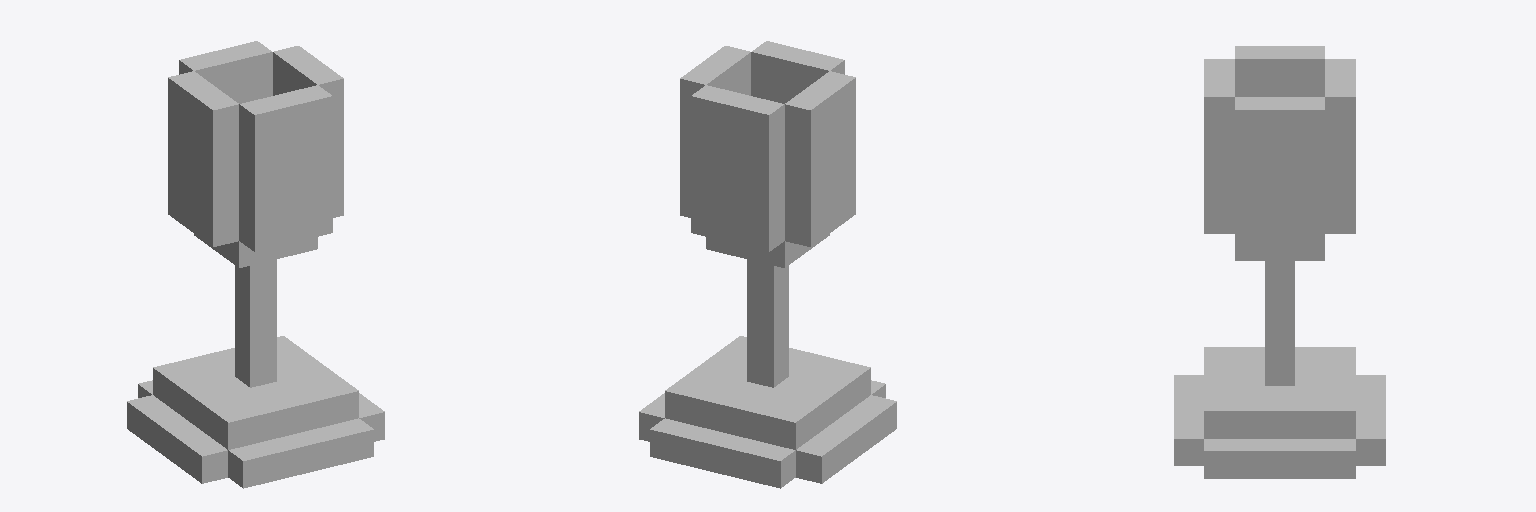
Rendered from throphy emerald B.obj.
The picture shows the model from 3 angles: view 1: azimuth 30°, elevation 25°; view 2: azimuth 150°, elevation 25°; view 3: azimuth 270°, elevation 25°; orthographic projection.
Parts seen in each view (by area): view 1: trophy b; view 2: trophy b; view 3: trophy b.
Part boxes in pixels (bbox=[...]): trophy b: bbox=[127, 41, 384, 488]; trophy b: bbox=[639, 41, 896, 488]; trophy b: bbox=[1174, 46, 1385, 478].
Bounding box in the file's own units: 7 × 13 × 7.